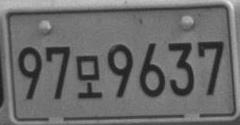3: (167, 41, 194, 96)
6: (138, 42, 165, 98)
7: (197, 40, 224, 96), (45, 45, 70, 100)
9: (106, 42, 133, 98), (17, 45, 43, 100)
모: (75, 54, 102, 99)
